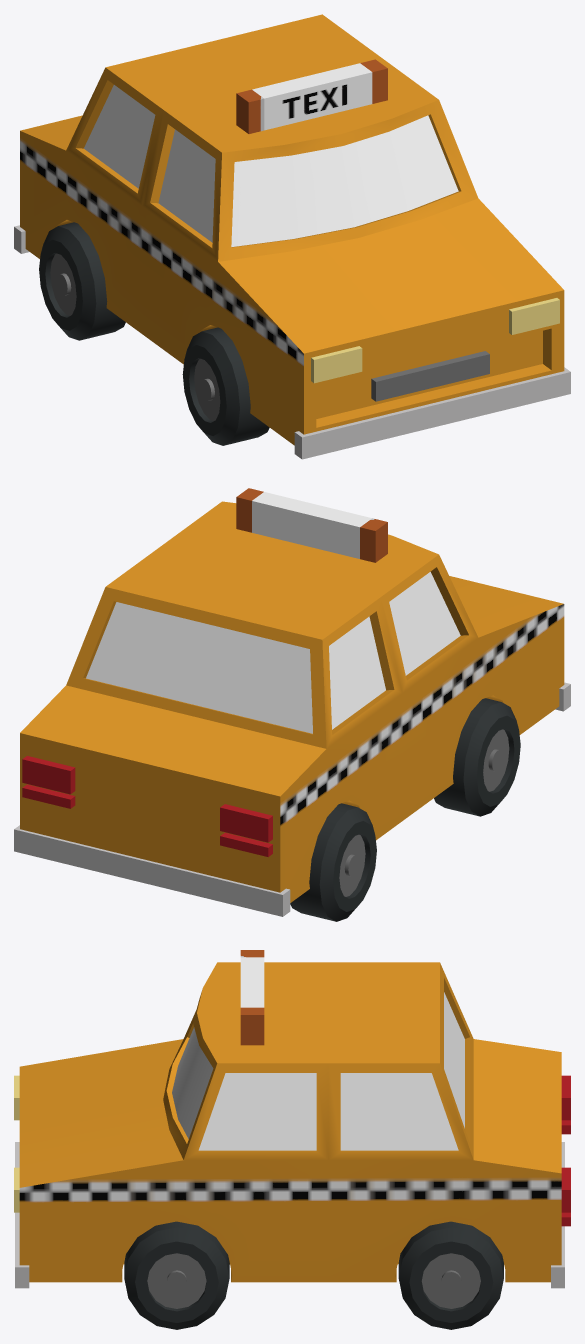
Rendered from obj_texi.fbx.
The picture shows the model from 3 angles, top to bottom: view 1: azimuth 30°, elevation 25°; view 2: azimuth 150°, elevation 25°; view 3: azimuth 270°, elevation 25°; orthographic projection. The views are drawn at different scales.
Visible parts, largest first — view 1: obj_texi; view 2: obj_texi; view 3: obj_texi.
Boxes of the visible parts, x1,y1,x2,y2 form: obj_texi: (14,14,570,459); obj_texi: (14,488,570,921); obj_texi: (14,950,570,1329).
Size of the model in its own units: 1.38 by 1.36 by 2.41.
2 materials, 2 textured.
